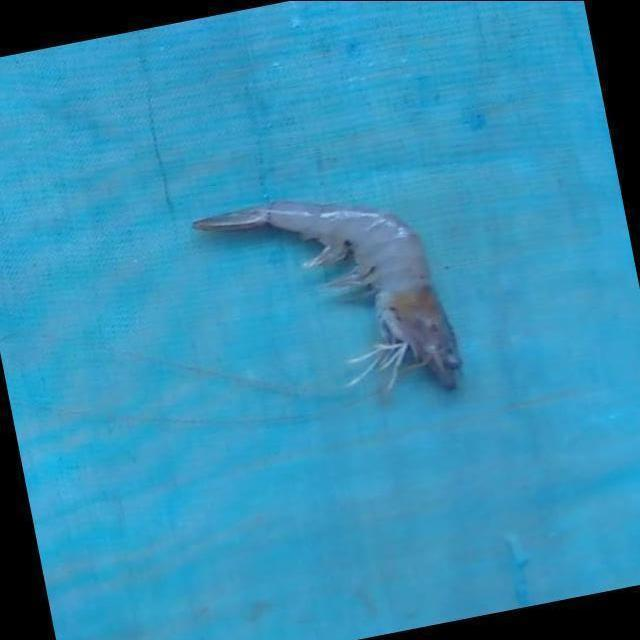shrimp: (194, 199, 459, 388)
